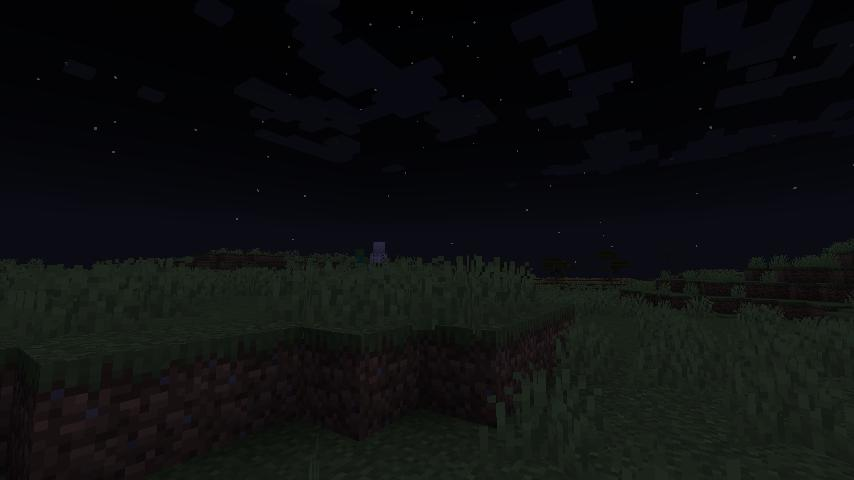creeper: (370, 240, 389, 272)
zombie: (352, 248, 364, 269)
